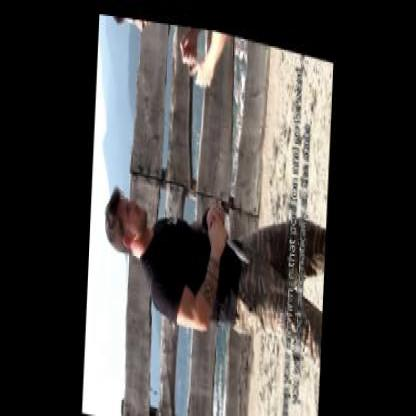knife: (209, 212, 254, 262)
